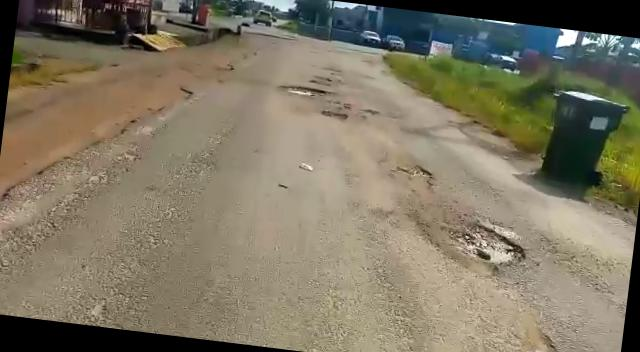pothole: (444, 214, 532, 270), (390, 162, 435, 183), (276, 81, 328, 98), (320, 108, 350, 122)
